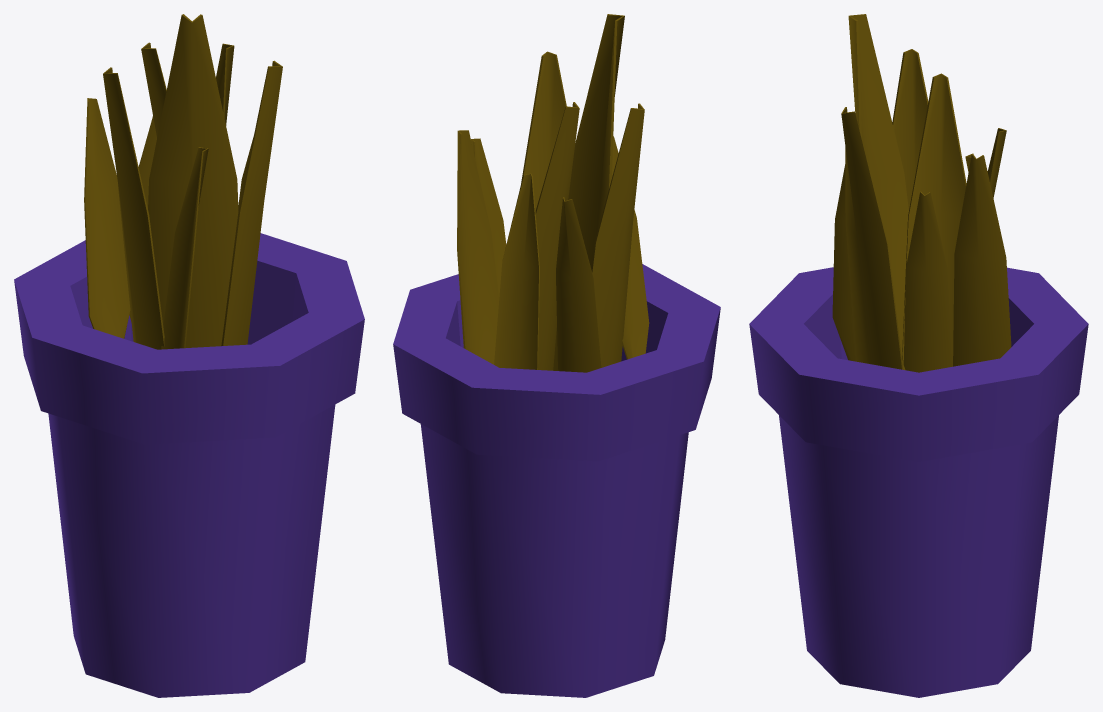
Rendered from s_plant.fbx.
3 views of the same model, side by side, from view 1: azimuth 30°, elevation 25°; view 2: azimuth 150°, elevation 25°; view 3: azimuth 270°, elevation 25° (orthographic). The views are drawn at different scales.
Visible parts, largest first — view 1: s_plant; view 2: s_plant; view 3: s_plant.
Boxes of the visible parts, left/top/right/bottom form: s_plant: left=14, top=14, right=364, bottom=697; s_plant: left=393, top=14, right=720, bottom=697; s_plant: left=749, top=14, right=1088, bottom=697.
Size of the model in its own units: 12.61 by 25.42 by 12.61.
